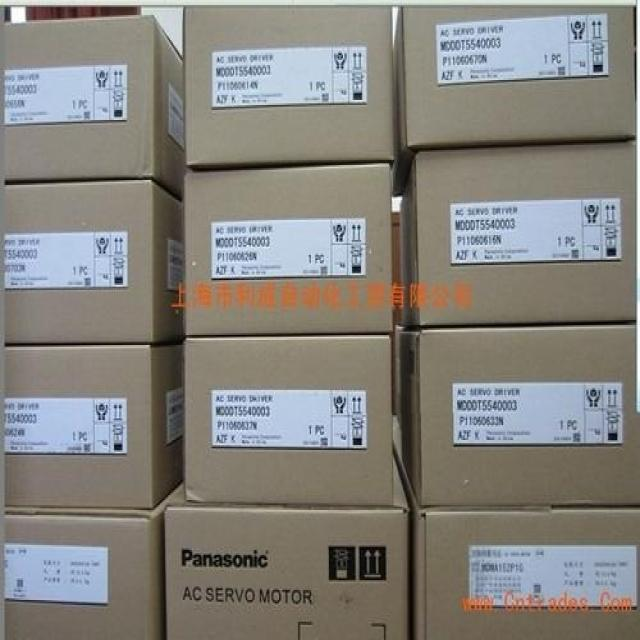box: (165, 456, 409, 638), (401, 323, 639, 507), (399, 144, 639, 324), (399, 460, 638, 638), (392, 7, 636, 176), (183, 166, 392, 338), (185, 335, 394, 506), (183, 9, 394, 171), (4, 18, 183, 202), (2, 342, 185, 509), (5, 180, 186, 347), (4, 484, 185, 638)
